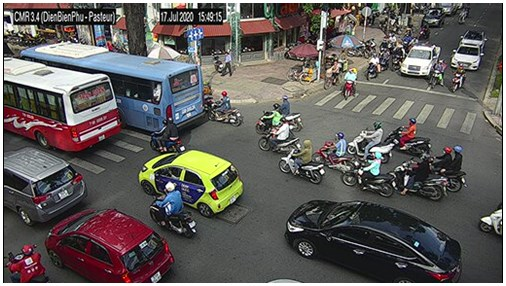xe_buyt: (20, 41, 203, 132), (4, 57, 122, 152)
xe_hoi: (284, 199, 462, 284), (44, 208, 174, 283), (138, 150, 243, 217), (4, 147, 88, 226), (402, 42, 438, 75), (451, 44, 482, 71), (460, 30, 488, 47), (423, 8, 444, 27)
xe_may: (394, 152, 449, 203), (149, 180, 197, 238), (340, 150, 397, 198), (278, 139, 324, 184), (427, 146, 468, 193), (347, 122, 394, 163), (385, 117, 432, 157), (314, 132, 357, 173), (5, 244, 50, 283), (260, 118, 301, 154), (148, 116, 184, 151), (257, 103, 291, 138), (210, 91, 241, 127), (278, 95, 303, 132), (479, 201, 503, 234), (340, 68, 357, 101), (450, 62, 466, 92), (430, 59, 446, 88), (366, 52, 381, 81), (379, 46, 390, 70), (392, 45, 402, 71), (418, 23, 430, 40), (458, 8, 466, 24)
